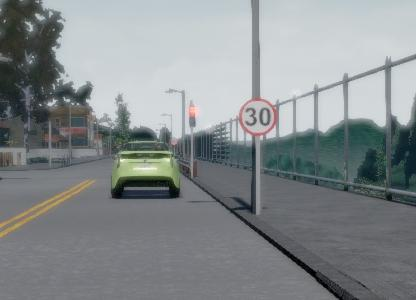Speed_30: (237, 93, 278, 141)
